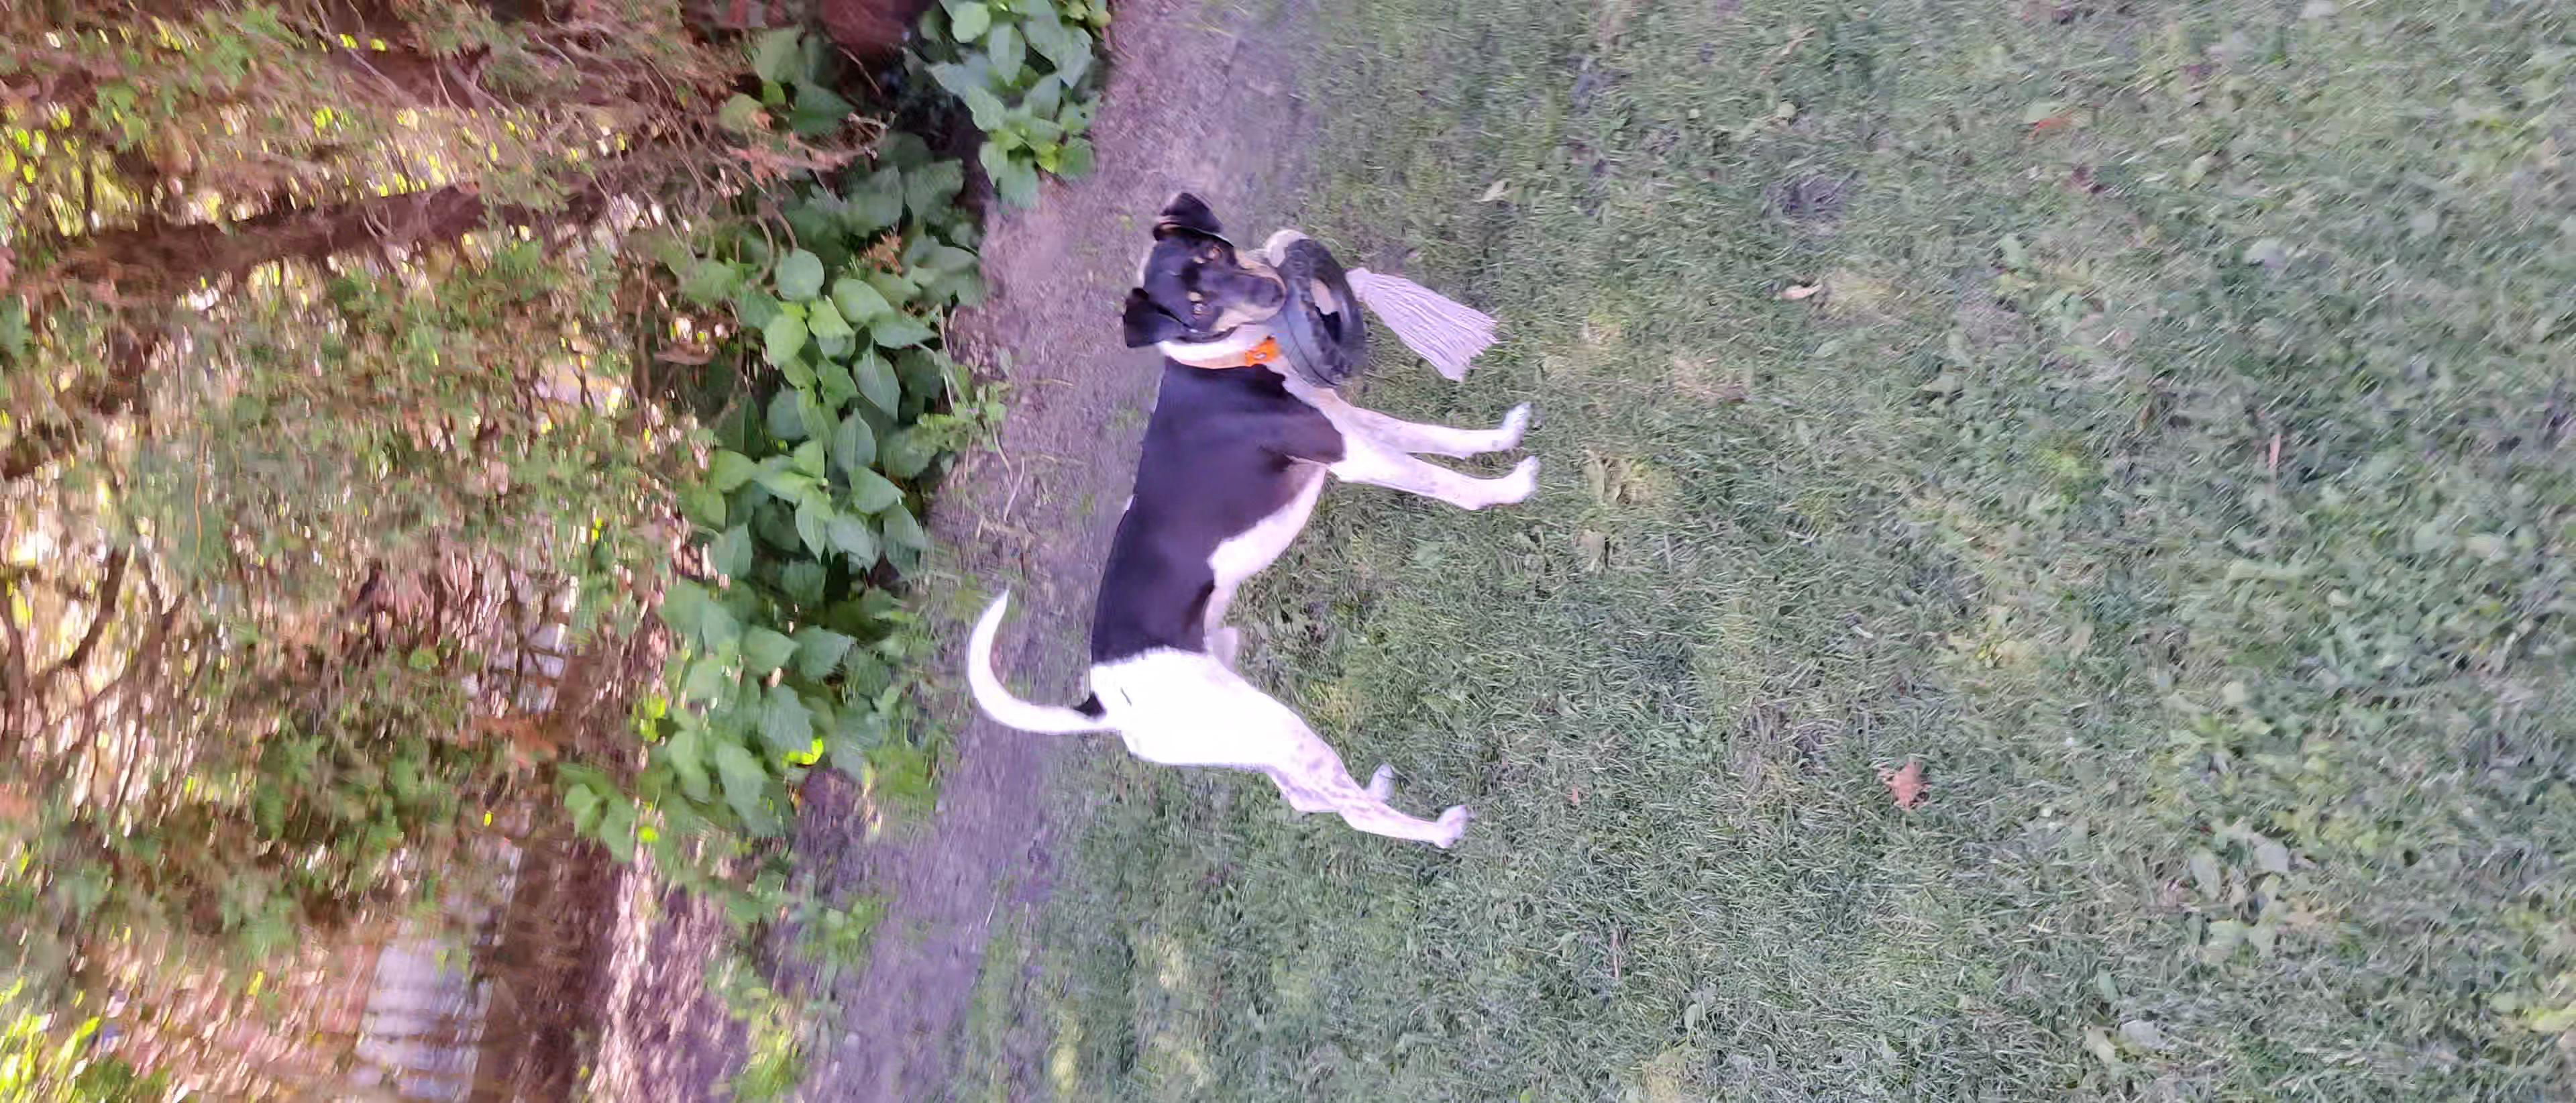Dog: (961, 186, 1551, 850)
